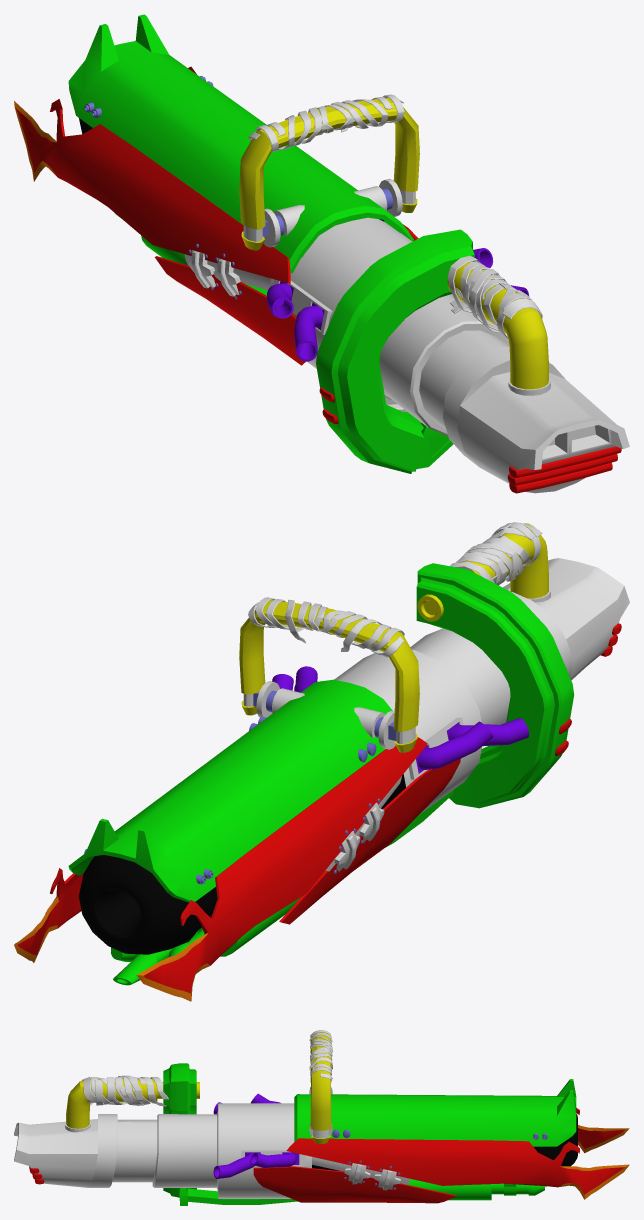
File: Flame_trower.fbx
3 views of the same model, one above another, from view 1: azimuth 30°, elevation 25°; view 2: azimuth 150°, elevation 25°; view 3: azimuth 270°, elevation 25° (orthographic). The views are drawn at different scales.
Visible parts, largest first — view 1: Gun_base, Controlls, Pannel, Plane, Front_handle; view 2: Gun_base, Pannel, Controlls, Front_handle, Plane; view 3: Gun_base, Pannel, Controlls, Plane, Front_handle, CLAMPS, CLAMPS_2.
Boxes of the visible parts, x1,y1,x2,y2 form: Gun_base: (68, 14, 629, 493); Controlls: (316, 229, 550, 473); Pannel: (14, 66, 418, 365); Plane: (447, 255, 542, 338); Front_handle: (248, 94, 404, 152); Gun_base: (68, 558, 629, 961); Pannel: (14, 737, 460, 1001); Controlls: (113, 523, 574, 985); Front_handle: (248, 597, 404, 657); Plane: (450, 522, 542, 585); Gun_base: (14, 1032, 577, 1200); Pannel: (253, 1108, 629, 1203); Controlls: (65, 1063, 546, 1205); Plane: (81, 1075, 168, 1106); Front_handle: (309, 1030, 332, 1080); CLAMPS: (374, 1169, 400, 1190); CLAMPS_2: (344, 1163, 370, 1184).
Size of the model in its own units: 73.53 by 20.08 by 21.64.
